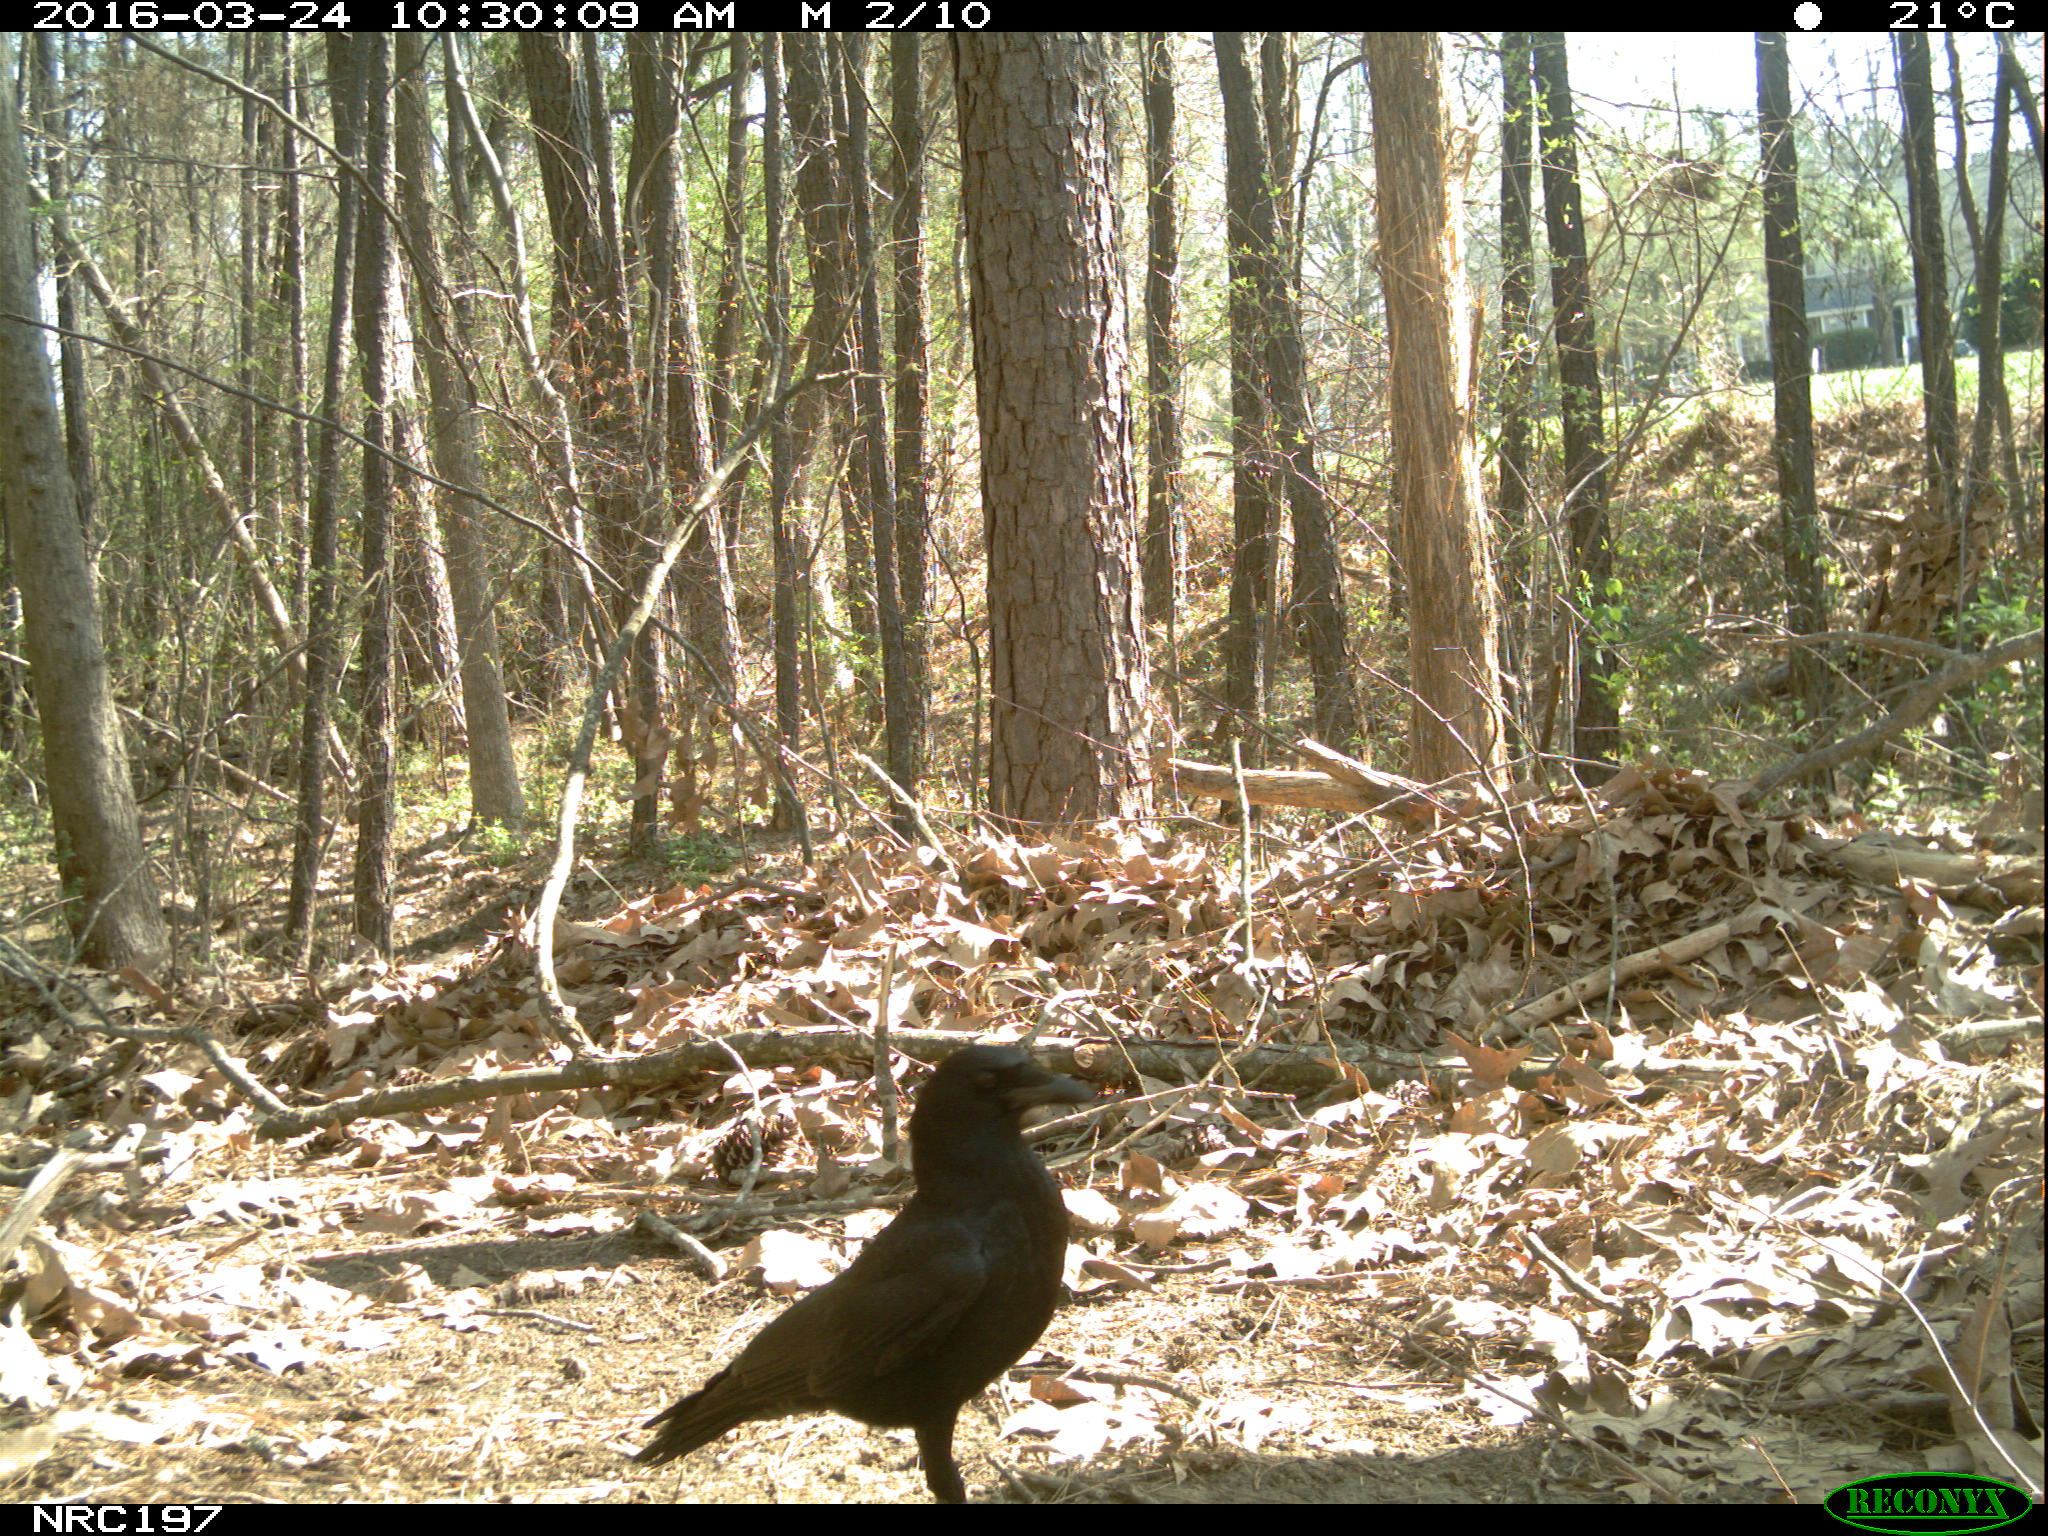Animal: (637, 1046, 1097, 1505)
